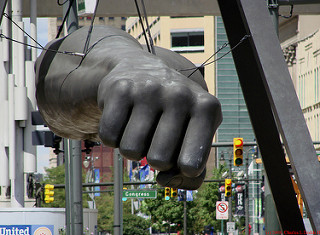fist: (99, 72, 224, 190)
